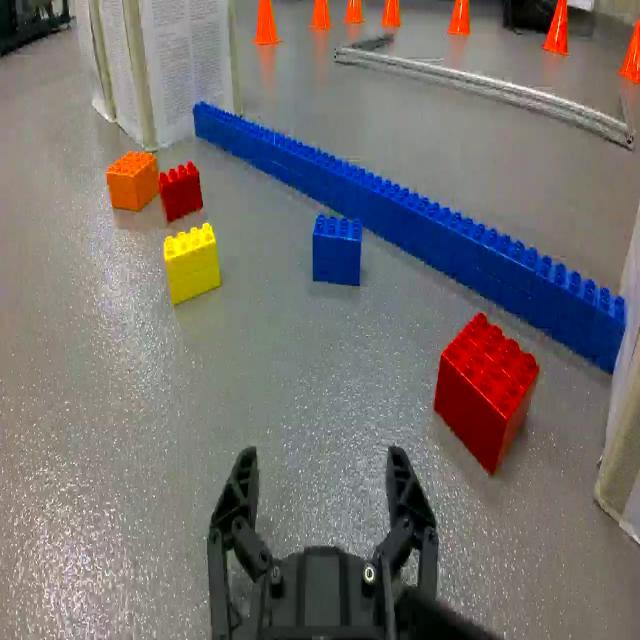block: (162, 224, 224, 310)
blue: (308, 207, 369, 296)
cone: (249, 0, 285, 51), (543, 0, 571, 60), (617, 15, 640, 87), (308, 0, 337, 36), (446, 1, 471, 38), (381, 0, 402, 31), (344, 1, 366, 27)
metal barrier: (334, 31, 638, 152)
orange: (100, 145, 160, 216)
red goal: (431, 305, 543, 488), (159, 158, 205, 224)
river: (192, 98, 627, 377)
storage cube: (97, 0, 246, 152), (74, 0, 112, 123)
